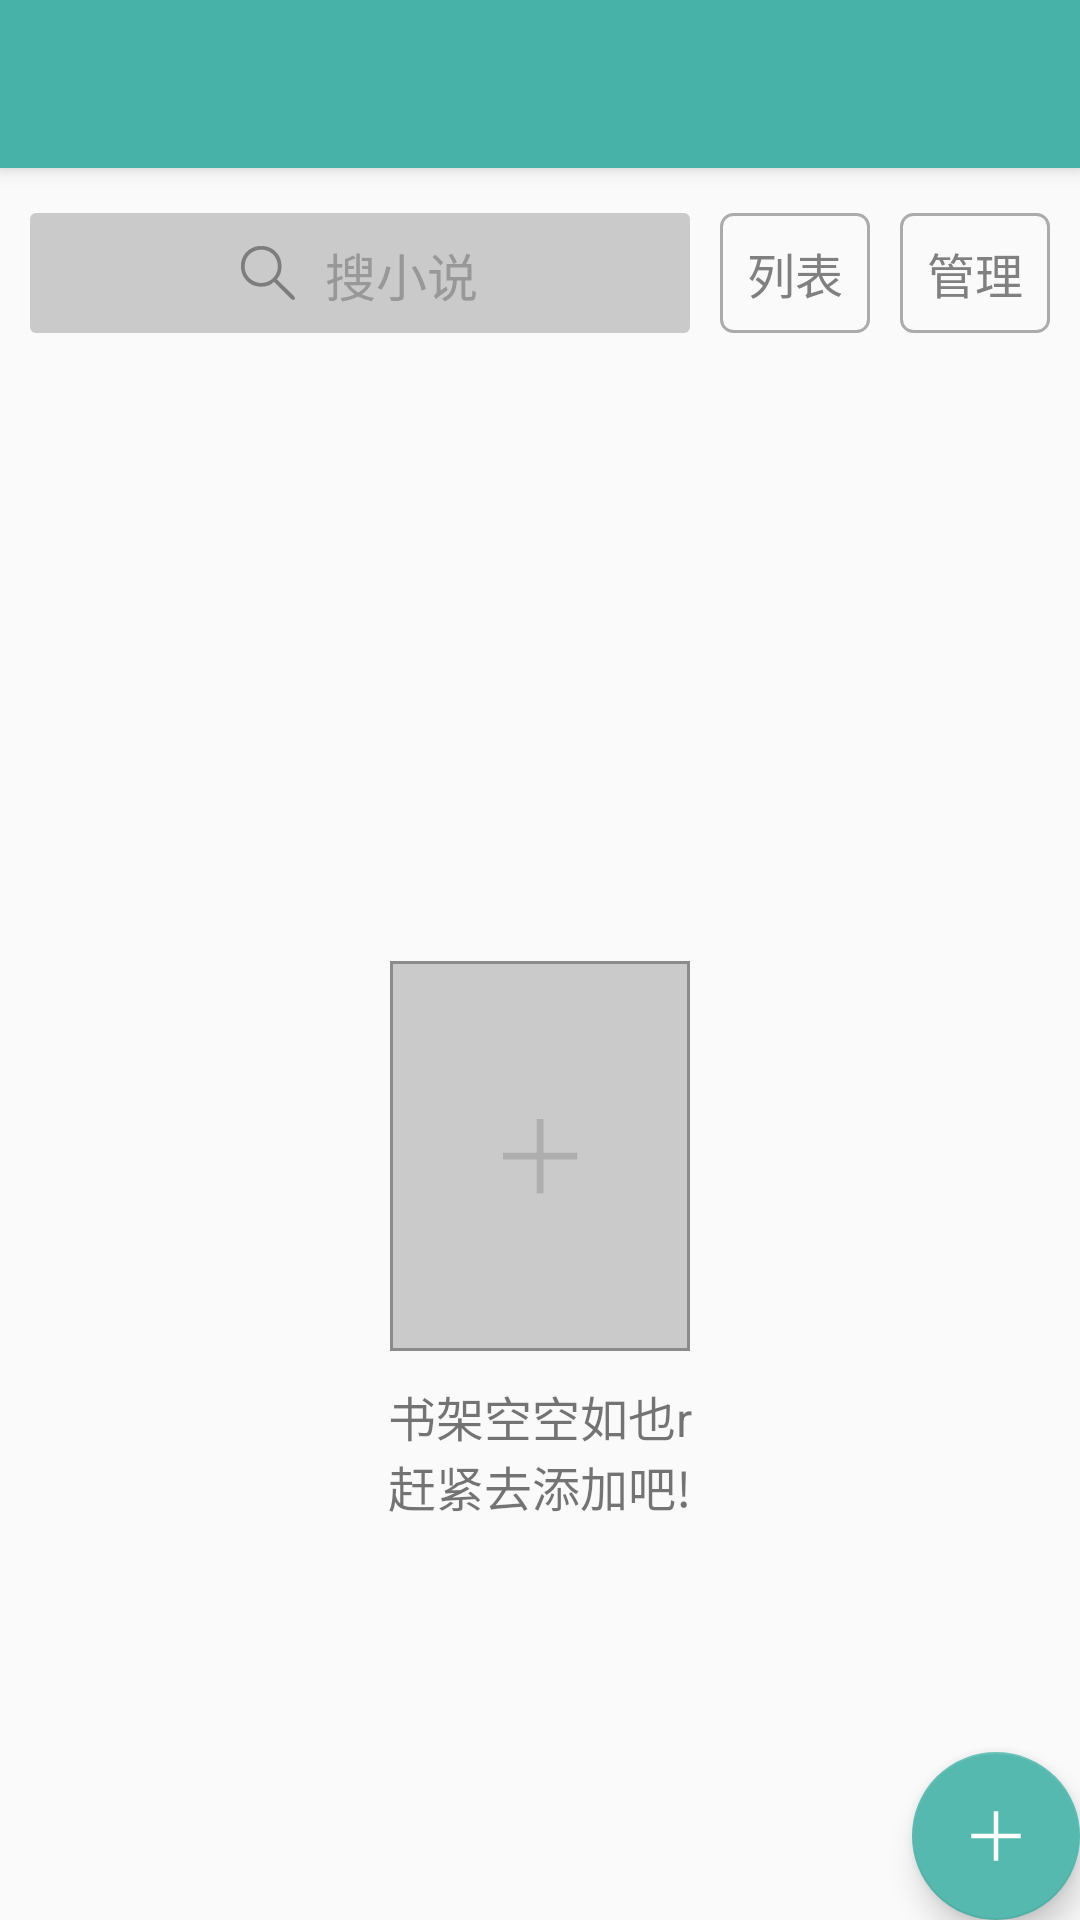

Icons on this 1080px x 1920px Android screen, each with its box as region(x1, y1, x2, y2):
floatbar plus: region(912, 1752, 1080, 1920)
search: region(241, 246, 295, 300)
